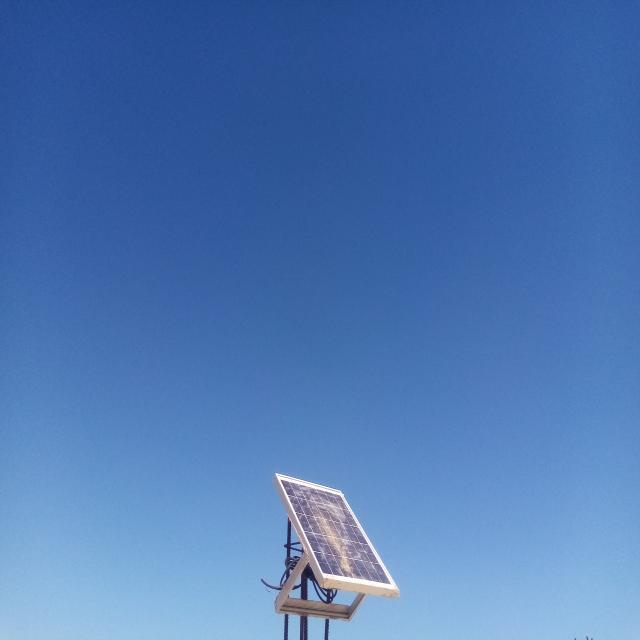faulty: (276, 473, 398, 590)
